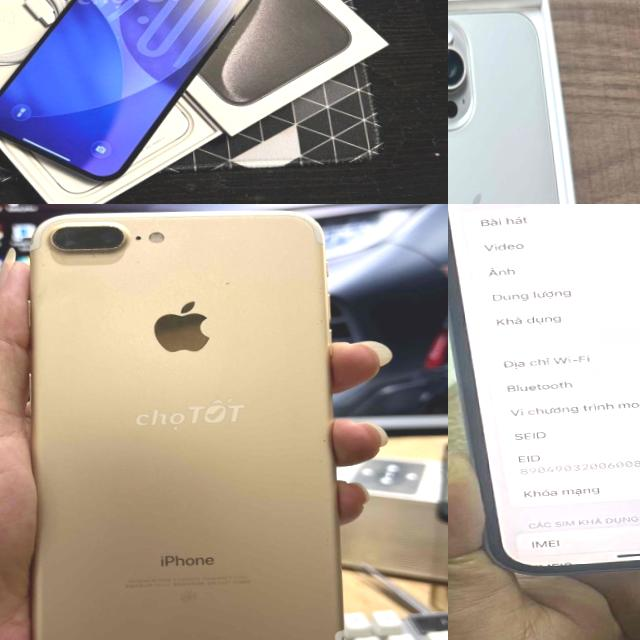gen_12_13: (448, 204, 640, 587)
gen_15: (0, 0, 290, 199), (448, 1, 600, 204)
gen_7_8: (22, 204, 350, 640)
scratch: (38, 236, 126, 270), (311, 276, 333, 342), (205, 269, 244, 291), (310, 433, 336, 454)
